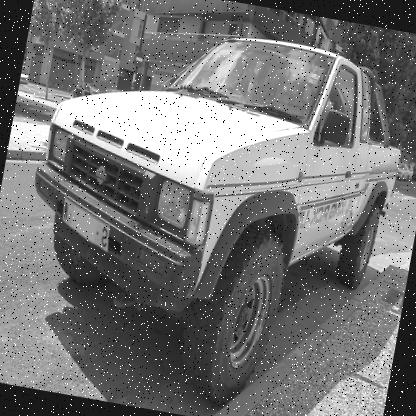Car: (75, 80, 99, 100), (394, 164, 408, 180), (19, 63, 29, 82)
